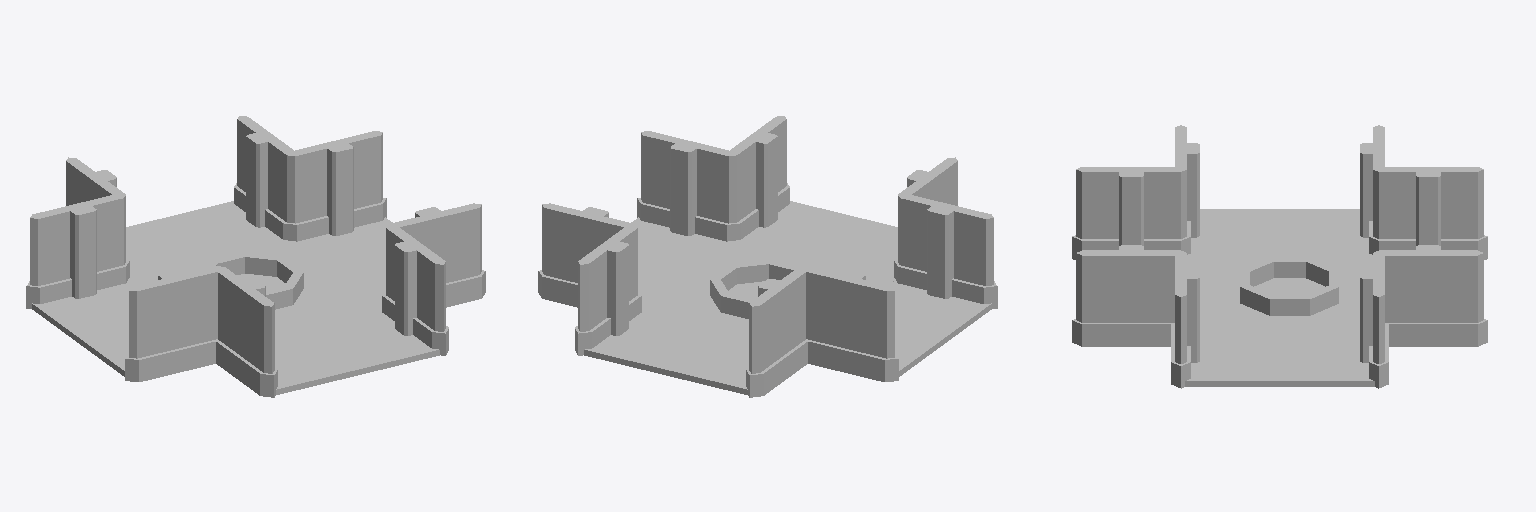
Rendered from intersection_4way_01.obj.
The picture shows the model from 3 angles: view 1: azimuth 30°, elevation 25°; view 2: azimuth 150°, elevation 25°; view 3: azimuth 270°, elevation 25°; orthographic projection.
Parts seen in each view (by area): view 1: wall_02_89, wall_02_88, wall_02_85, floor_04_82, floor_04_80, floor_01_73, wall_02_87, wall_02_91, wall_02_84, wall_02_90, floor_04_81, floor_04_79 (+2 smaller); view 2: wall_02_85, wall_02_84, wall_02_88, floor_04_80, floor_04_82, wall_02_86, wall_02_90, floor_01_73, wall_02_89, wall_02_91, floor_04_81, floor_04_79 (+2 smaller); view 3: floor_01_73, wall_02_90, wall_02_91, wall_02_86, wall_02_87, floor_04_79, floor_04_81, fountain_02_92, wall_02_84, wall_02_89, wall_02_85, wall_02_88.
Boxes of the visible parts, box(x1,y1,x2,y2) form: wall_02_89: box(283, 131, 386, 241); wall_02_88: box(26, 194, 125, 308); wall_02_85: box(125, 266, 223, 381); floor_04_82: box(275, 310, 439, 394); floor_04_80: box(126, 201, 287, 275); floor_01_73: box(121, 238, 383, 341); wall_02_87: box(214, 266, 277, 397); wall_02_91: box(382, 225, 448, 355); wall_02_84: box(384, 203, 485, 307); wall_02_90: box(234, 116, 296, 238); floor_04_81: box(32, 285, 128, 376); floor_04_79: box(291, 217, 392, 307); wall_02_85: box(894, 194, 997, 308); wall_02_84: box(637, 131, 740, 241); wall_02_88: box(805, 266, 898, 381); floor_04_80: box(584, 310, 748, 394); floor_04_82: box(734, 201, 897, 280); wall_02_86: box(746, 266, 809, 397); wall_02_90: box(575, 224, 641, 355); floor_01_73: box(642, 239, 893, 341); wall_02_89: box(538, 203, 640, 307); wall_02_91: box(727, 116, 789, 238); floor_04_81: box(888, 280, 991, 376); floor_04_79: box(631, 217, 733, 298); floor_01_73: box(1187, 251, 1372, 338); wall_02_90: box(1374, 245, 1487, 346); wall_02_91: box(1072, 245, 1180, 346); wall_02_86: box(1369, 167, 1487, 259); wall_02_87: box(1072, 167, 1186, 259); floor_04_79: box(1185, 334, 1374, 386); floor_04_81: box(1191, 209, 1368, 254); fountain_02_92: box(1240, 257, 1338, 315); wall_02_84: box(1171, 251, 1199, 388); wall_02_89: box(1360, 251, 1388, 388); wall_02_85: box(1175, 125, 1199, 254); wall_02_88: box(1360, 125, 1384, 240).
Size of the model in its own units: 4.21 by 1 by 4.21.